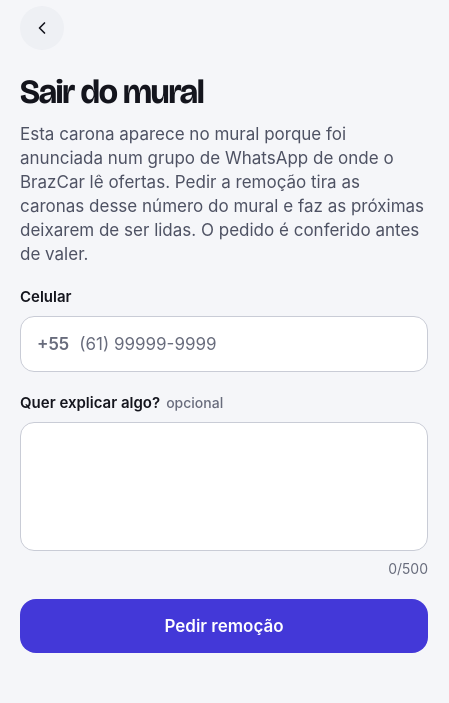
RemovalRequestScreen, as a person uses it (D-172) › what the API refuses is said on the same screen, which stays open
The width and height of the screenshot is (449, 703).
Click the field labelled "Celular". click: {"x": 245, "y": 344}
box: [79, 318, 411, 370]
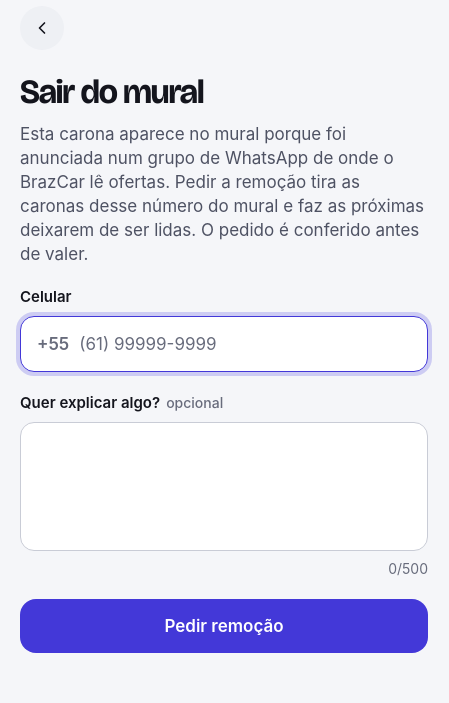
Type keys "61999990002{Enter}"
(page scrolled)
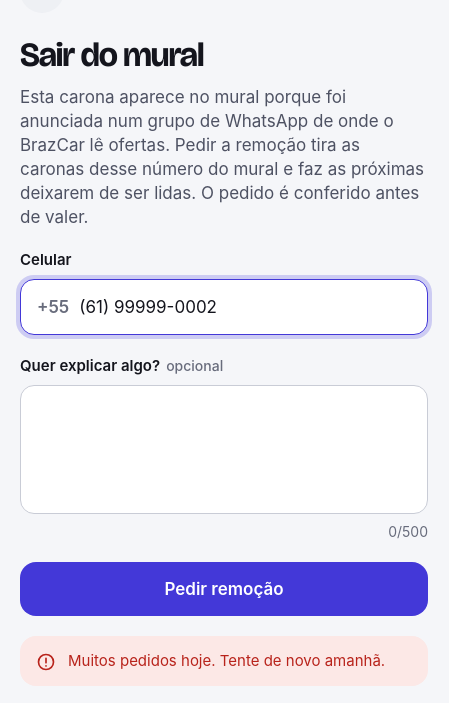
Expected: the text "Muitos pedidos hoje. Tente de novo amanhã." is shown, [68, 650, 412, 672]
